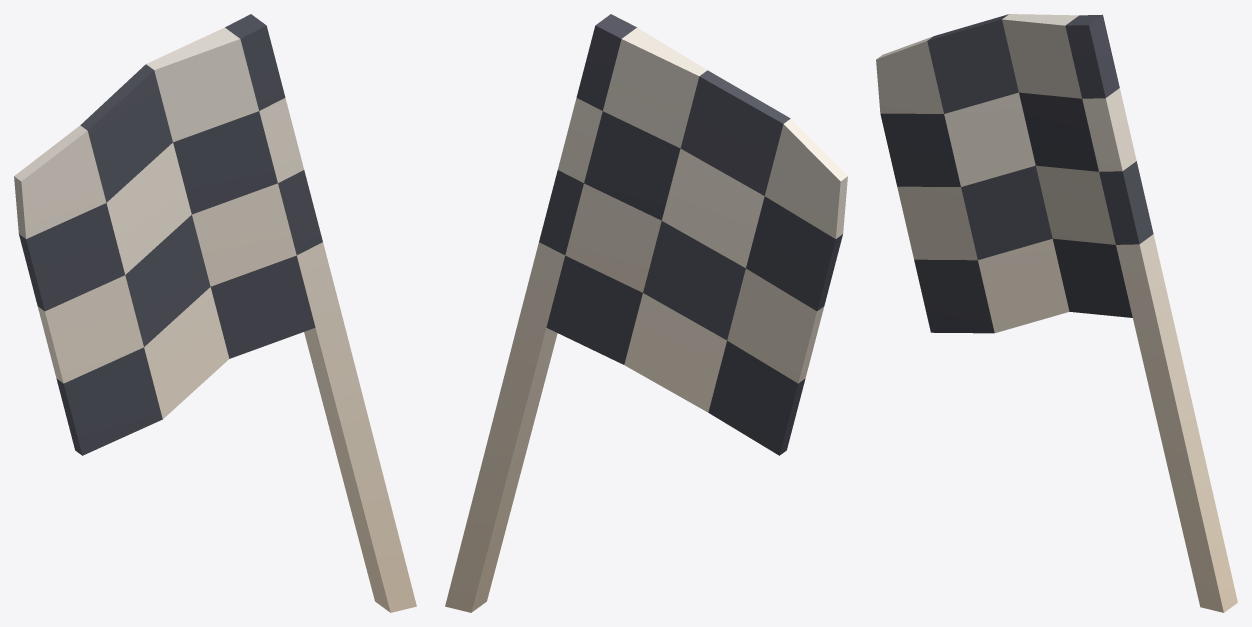
Rendered from Flag.fbx.
3 renders of one model, left to right at view 1: azimuth 30°, elevation 25°; view 2: azimuth 150°, elevation 25°; view 3: azimuth 330°, elevation 25°, orthographic. The views are drawn at different scales.
Parts seen in each view (by area): view 1: Flag; view 2: Flag; view 3: Flag.
Part boxes in pixels (bbox=[...]): Flag: bbox=[14, 14, 416, 612]; Flag: bbox=[445, 14, 847, 612]; Flag: bbox=[876, 14, 1237, 612].
Size of the model in its own units: 189 by 285 by 13.92.
